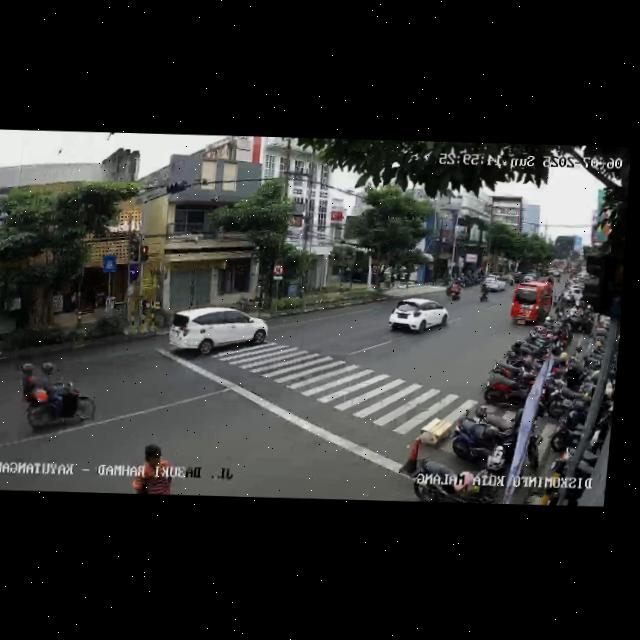car: (166, 302, 269, 362), (386, 296, 450, 338), (508, 280, 555, 328), (479, 276, 509, 294)
motorcycle: (14, 358, 99, 438), (447, 278, 462, 302), (476, 280, 491, 301)
person: (131, 442, 179, 494)
